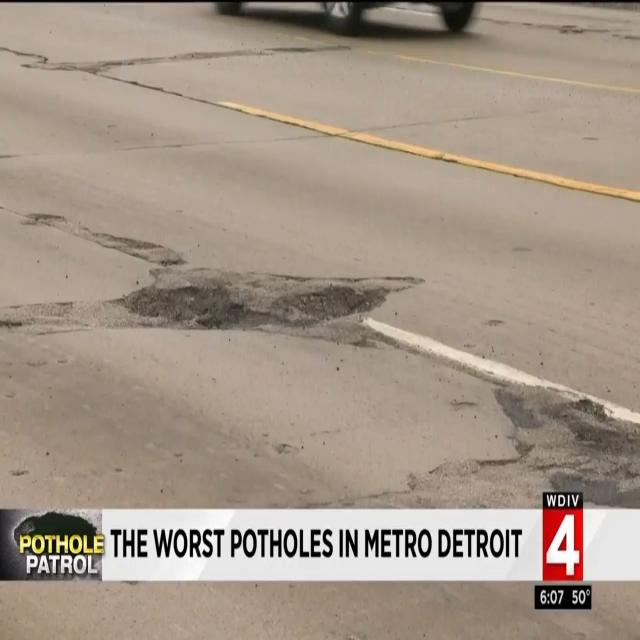pothole: (120, 268, 424, 344), (486, 385, 640, 508)
